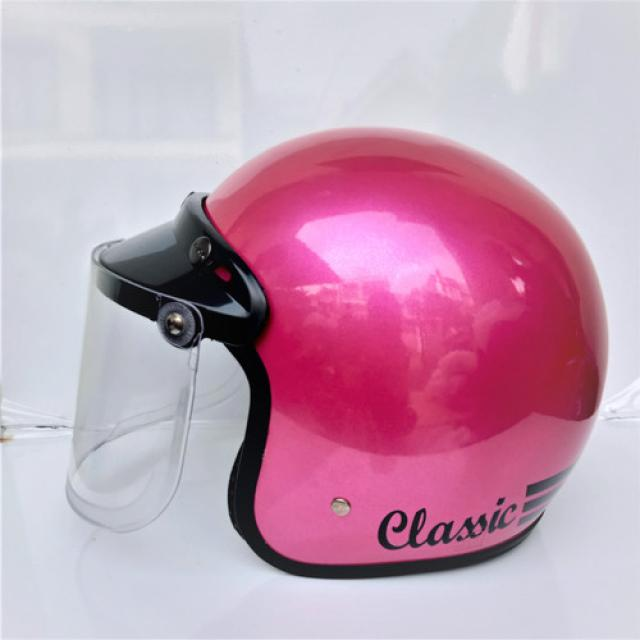Helm: (62, 122, 607, 583)
